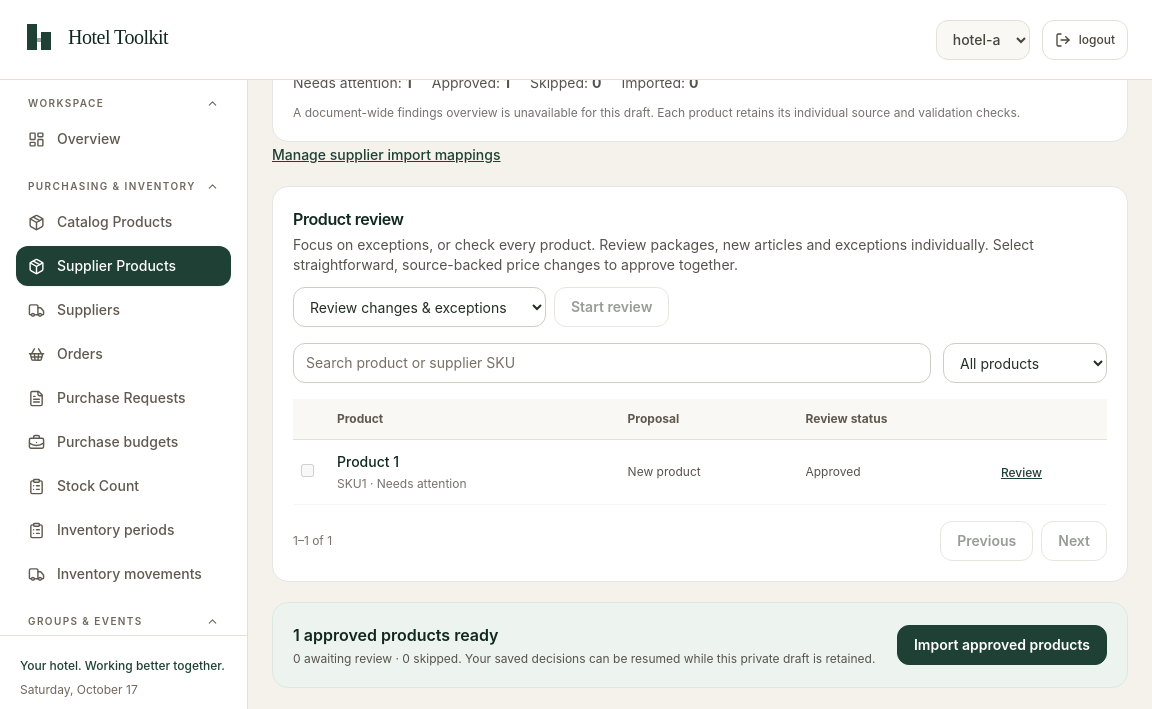
it: lets an all-applied import finish after an unknown completion acknowledgement without sending another product commit
(page scrolled)
What coordinates should you click on to do the following:
click the button "Import approved products"
I would click on:
 (1002, 645)
Its box is [897,625,1107,665].
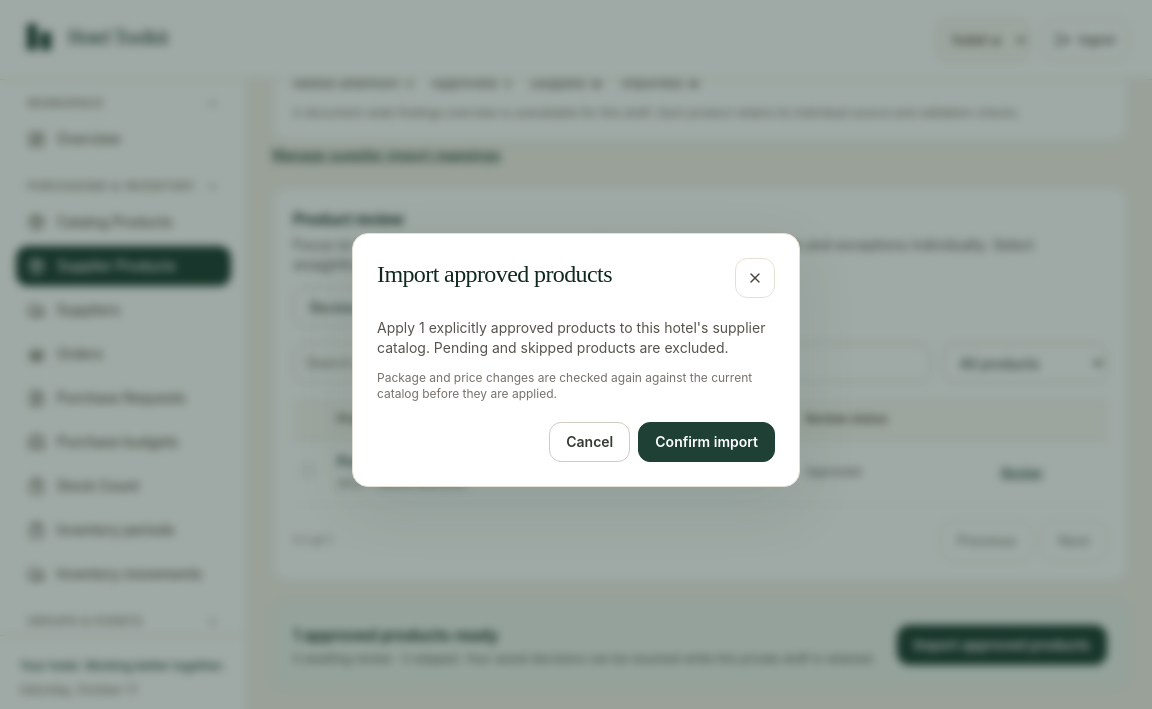
What coordinates should you click on to do the following:
click the button "Confirm import"
I would click on:
 (707, 442)
Its box is [638,422,775,462].
(page scrolled)
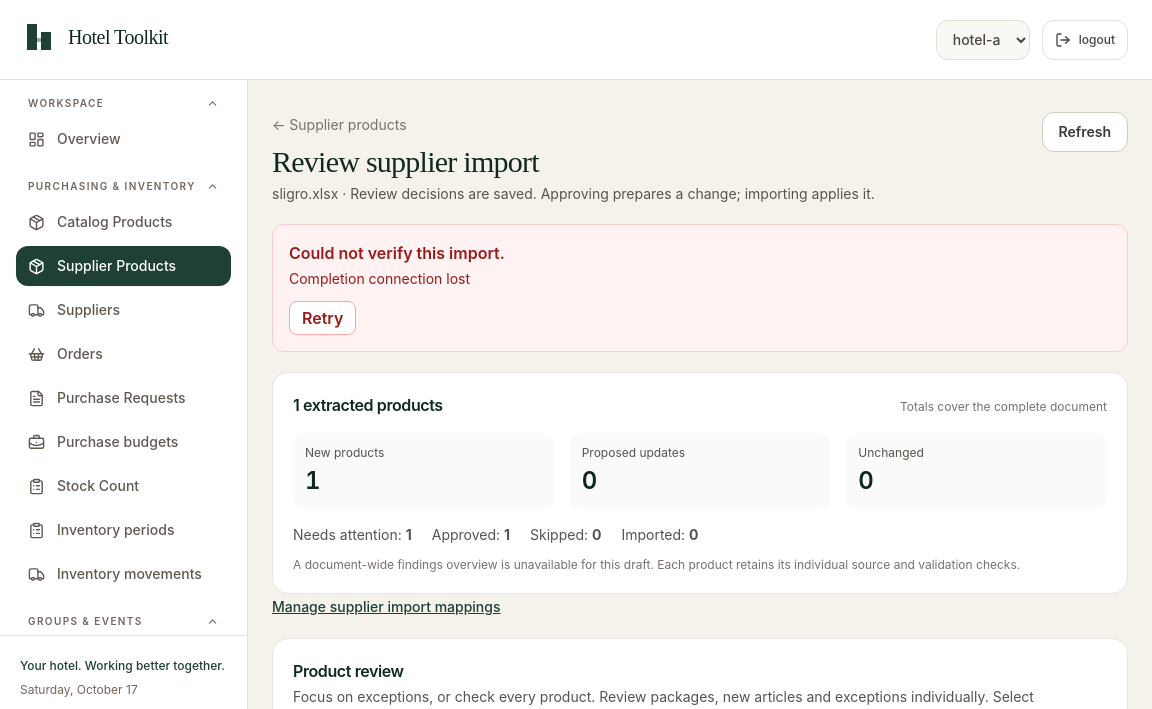
expect the text "Completion connection lost" is shown: met, box [289,270,470,287]
What coordinates should you click on to do the following:
click the button "Retry"
I would click on:
 (323, 318)
Its box is [289,301,356,335].
(page scrolled)
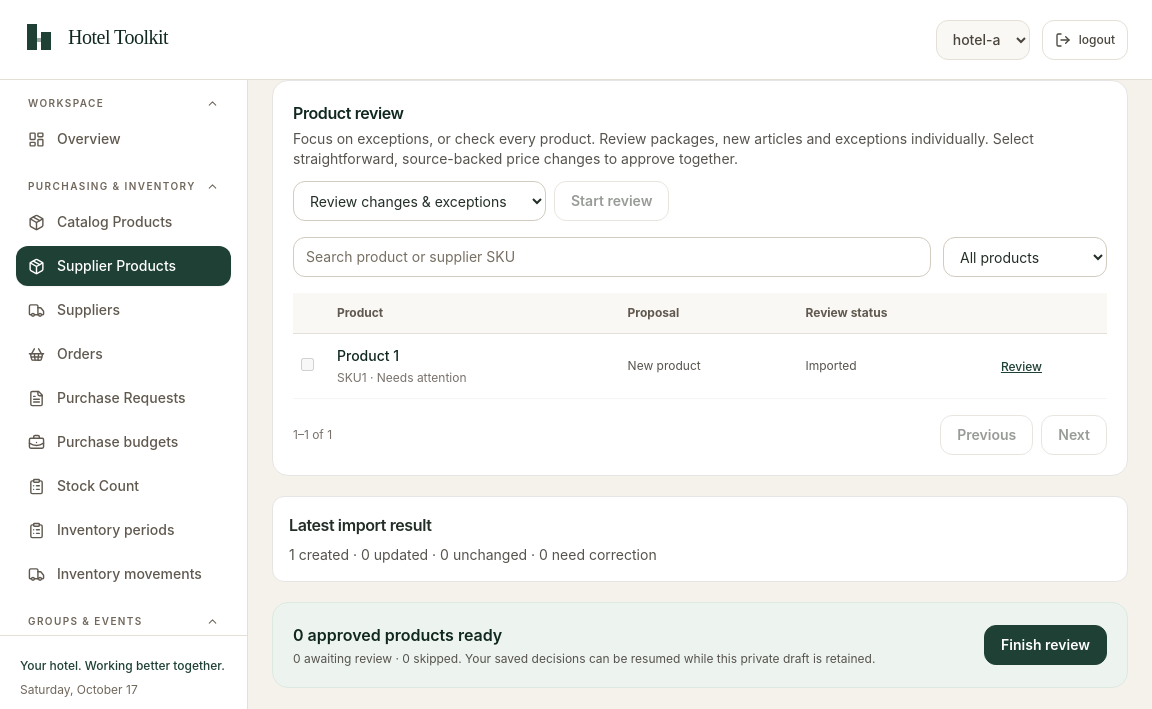
expect the button "Finish review" is shown: met
What coordinates should you click on to do the following:
click the button "Finish review"
I would click on:
 (1046, 645)
Its box is [984,625,1107,665].
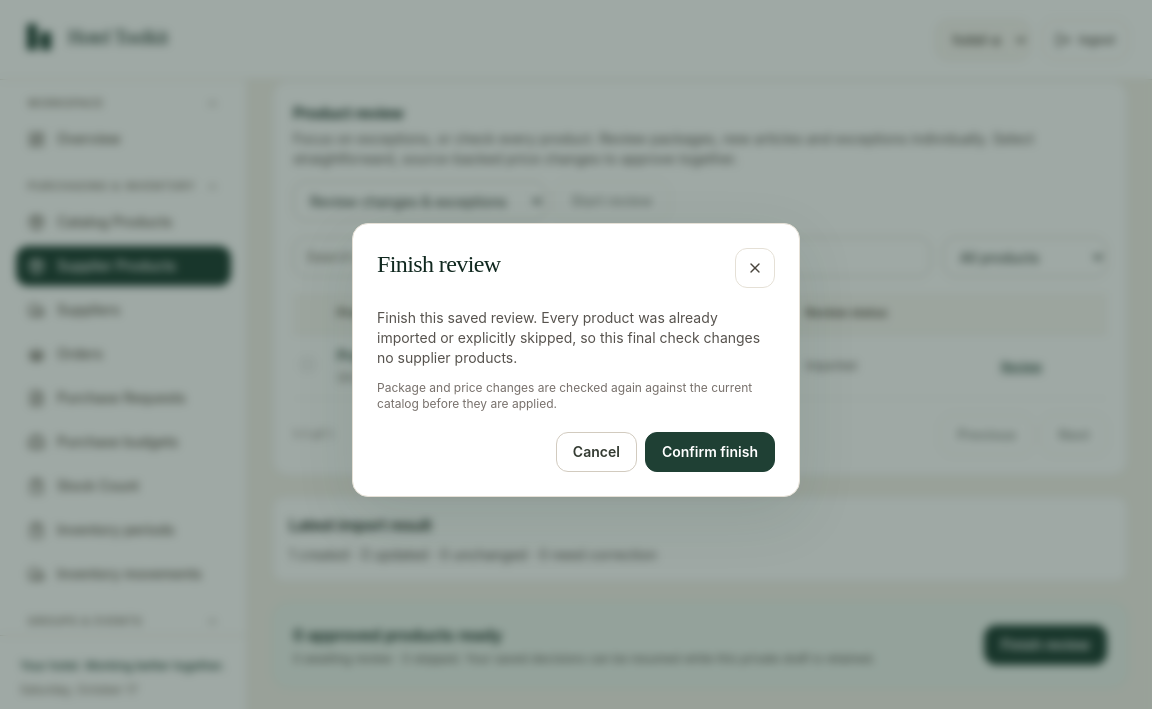
What coordinates should you click on to do the following:
click the button "Confirm finish"
I would click on:
 (710, 452)
Its box is [645,432,775,472].
(page scrolled)
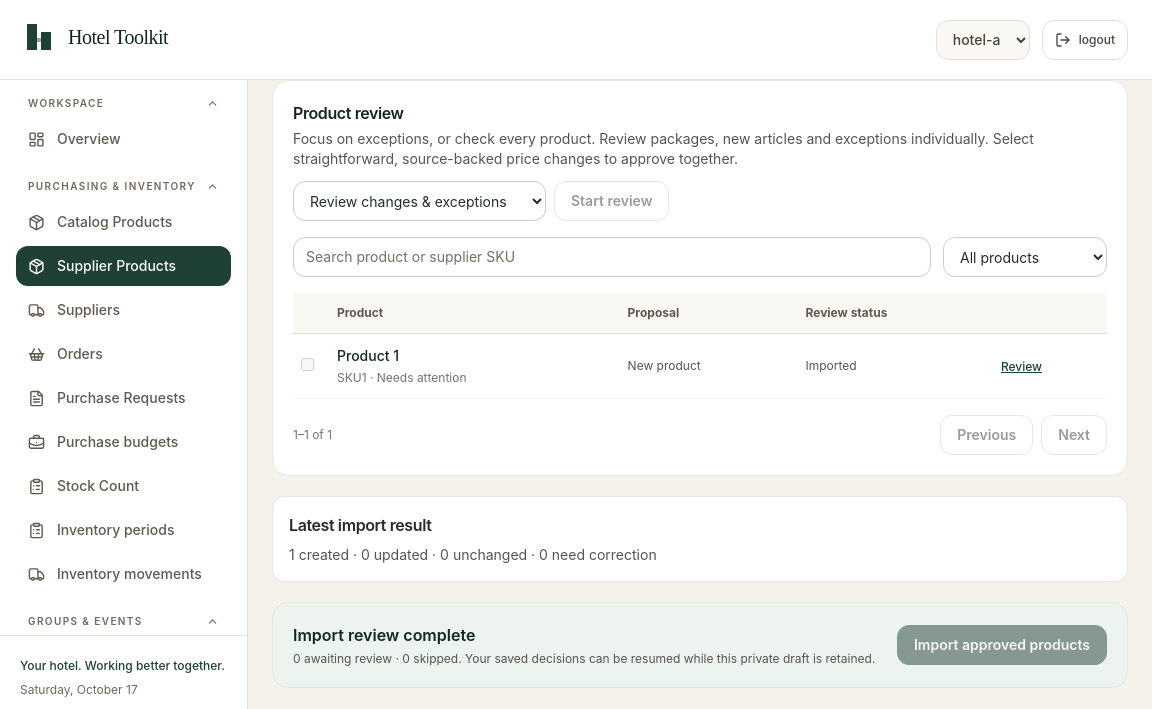
expect the text "Import review complete" is shown: met, box [293,625,475,645]
